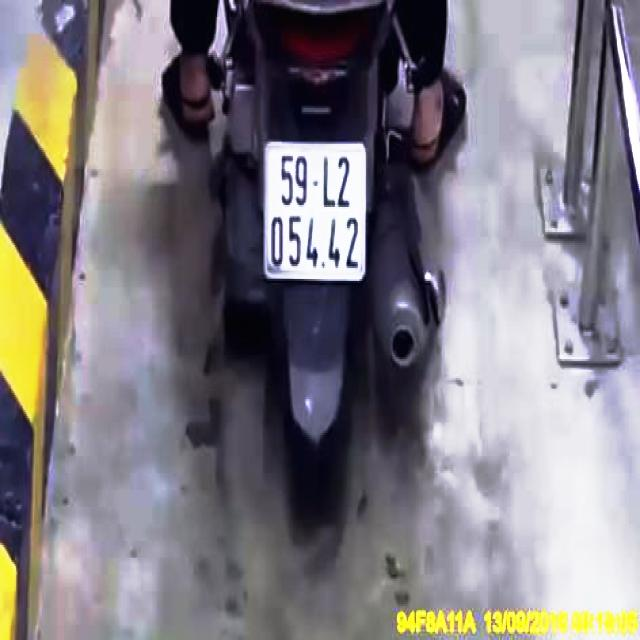license_plate: (263, 143, 367, 281)
